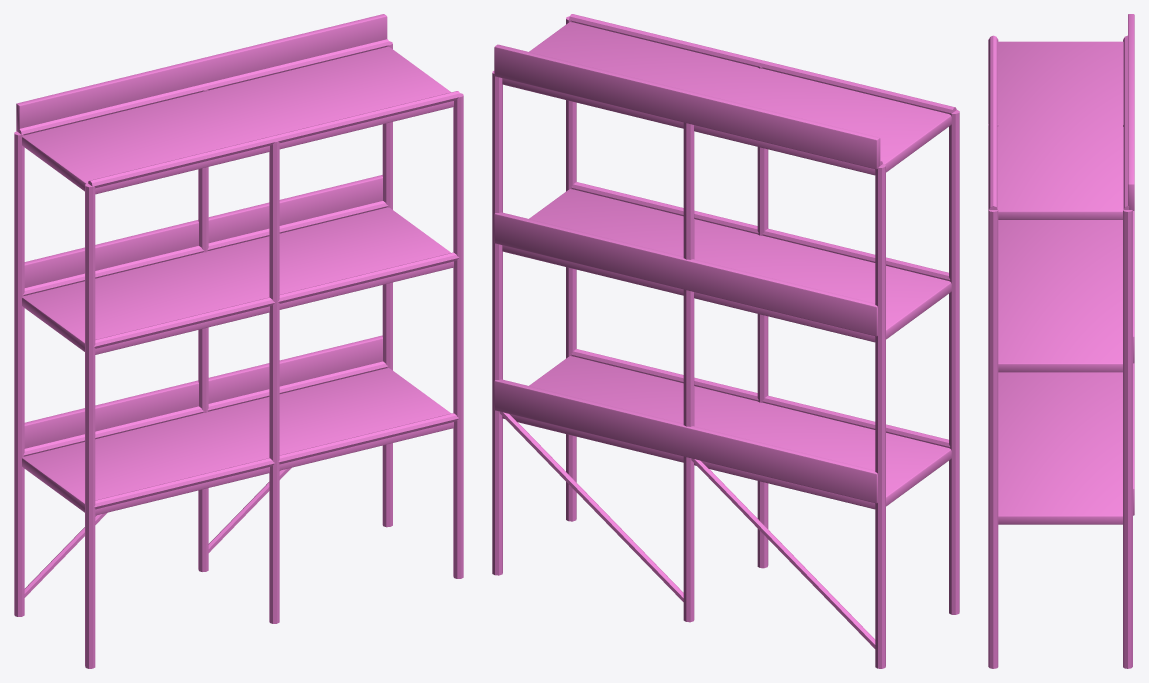
The model's file is Site_Scaffold.fbx.
3 renders of one model, left to right at view 1: azimuth 30°, elevation 25°; view 2: azimuth 150°, elevation 25°; view 3: azimuth 270°, elevation 25°, orthographic. The views are drawn at different scales.
Visible parts, largest first — view 1: Scaffold; view 2: Scaffold; view 3: Scaffold.
Boxes of the visible parts, x1,y1,x2,y2 form: Scaffold: (14,14,463,668); Scaffold: (492,14,959,668); Scaffold: (988,14,1134,668).
Size of the model in its own units: 12.3 by 15.85 by 4.35.
1 material, 1 textured.
